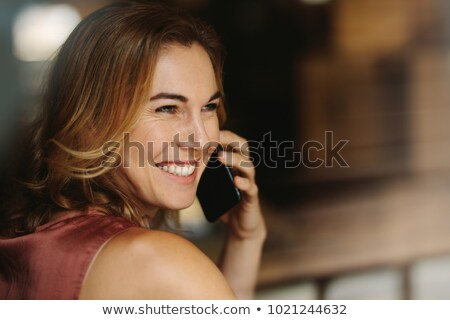phone: (200, 132, 253, 227)
talk: (146, 84, 265, 241)
